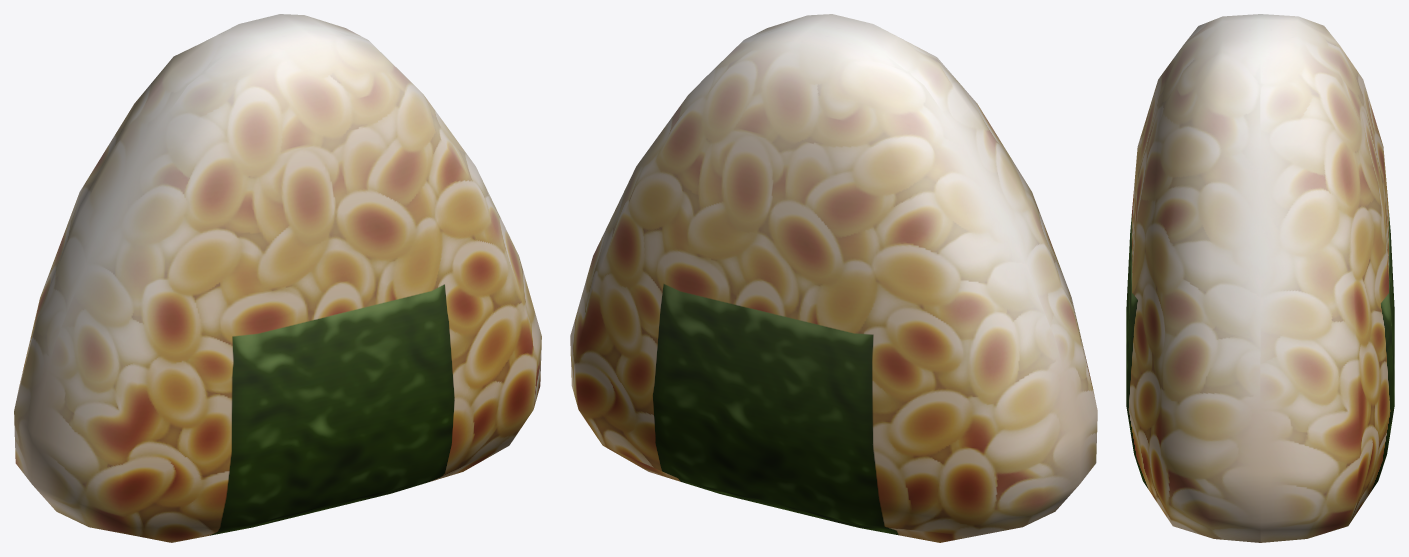
File: 011-Onigiri5.FBX
3 views of the same model, side by side, from view 1: azimuth 30°, elevation 25°; view 2: azimuth 150°, elevation 25°; view 3: azimuth 270°, elevation 25° (orthographic). The views are drawn at different scales.
Parts seen in each view (by area): view 1: 011-Onigiri5; view 2: 011-Onigiri5; view 3: 011-Onigiri5.
Part boxes in pixels (<box>): 011-Onigiri5: <box>14,14,541,542</box>; 011-Onigiri5: <box>570,14,1097,542</box>; 011-Onigiri5: <box>1126,14,1394,542</box>.
Size of the model in its own units: 15.79 by 13.84 by 7.76.
